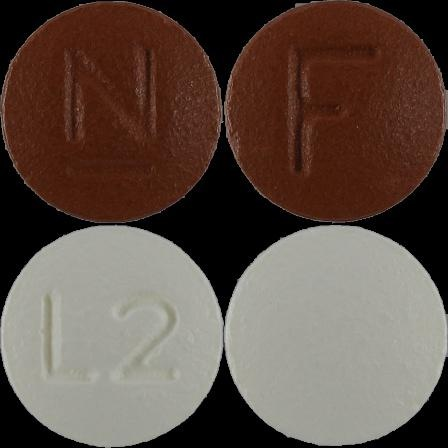16714-405: (0, 0, 224, 224)
